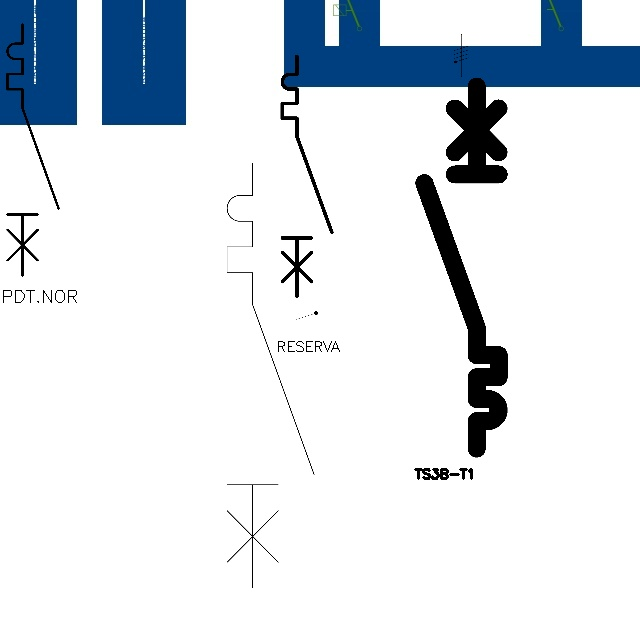interruptor_termomagnetico: (216, 152, 325, 599), (415, 77, 508, 458), (1, 18, 65, 282), (276, 50, 338, 303)
